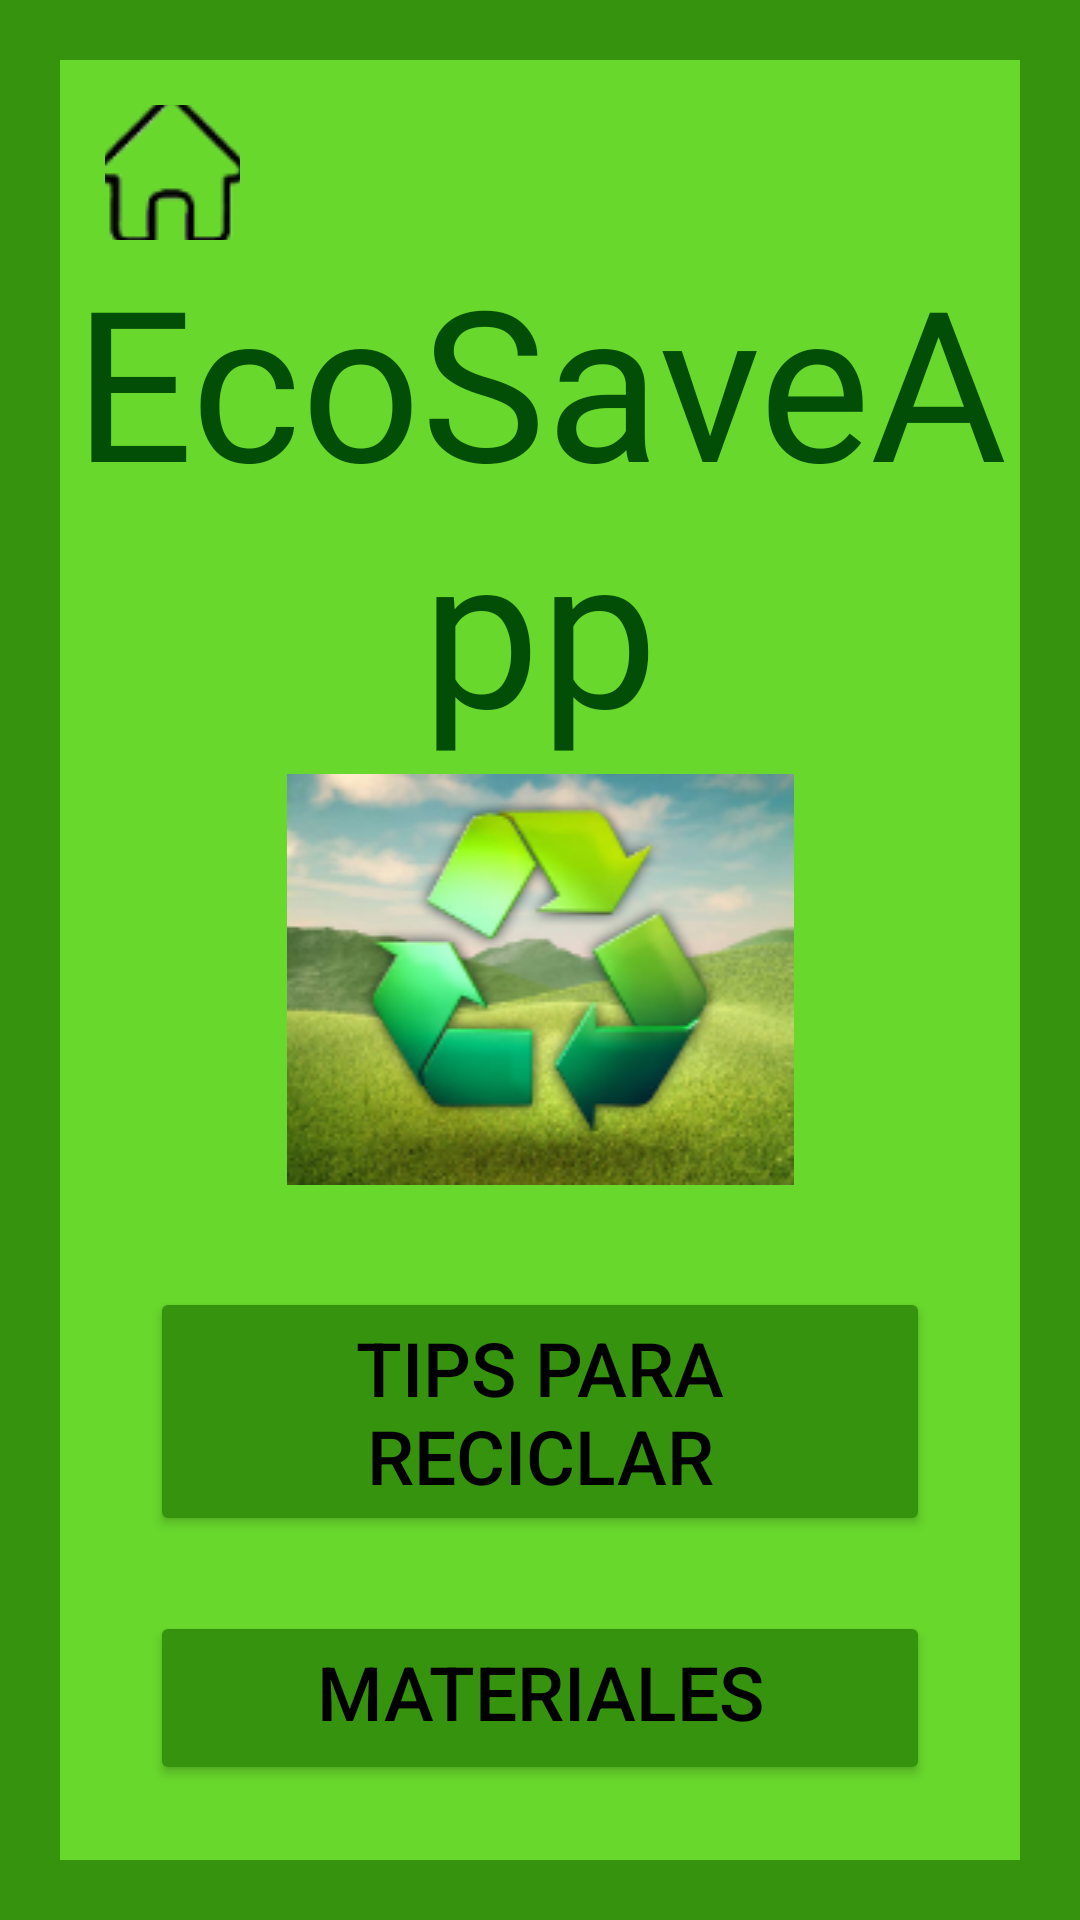

Locate icon controls on the screen. Image size 1080 × 1920, boxes as BBox(x1, y1, x2, y2).
casa: BBox(105, 105, 240, 240)
